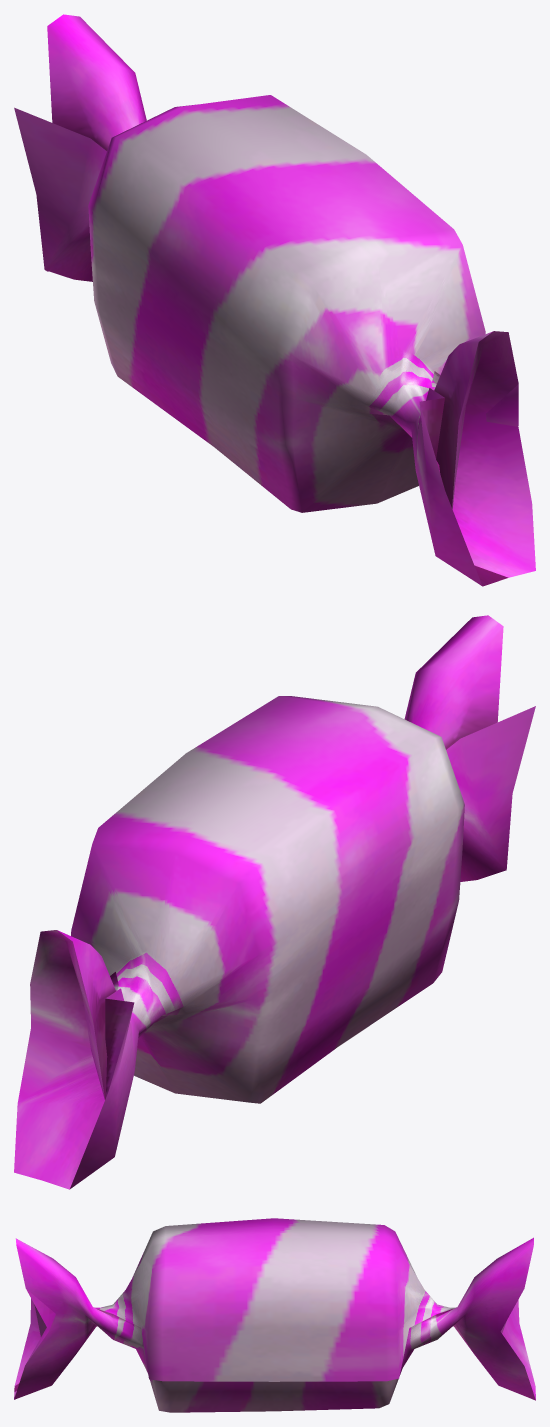
3 renders of one model, top to bottom at view 1: azimuth 30°, elevation 25°; view 2: azimuth 150°, elevation 25°; view 3: azimuth 270°, elevation 25°, orthographic. The views are drawn at different scales.
Visible parts, largest first — view 1: polySurface7.2; view 2: polySurface7.2; view 3: polySurface7.2.
Part boxes in pixels (box(x1,y1,x2,y2)): polySurface7.2: box(14, 14, 535, 586); polySurface7.2: box(14, 615, 535, 1189); polySurface7.2: box(14, 1218, 535, 1412).
Bounding box in the file's own units: 0.00837 × 0.00996 × 0.0291.
1 material, 1 textured.
